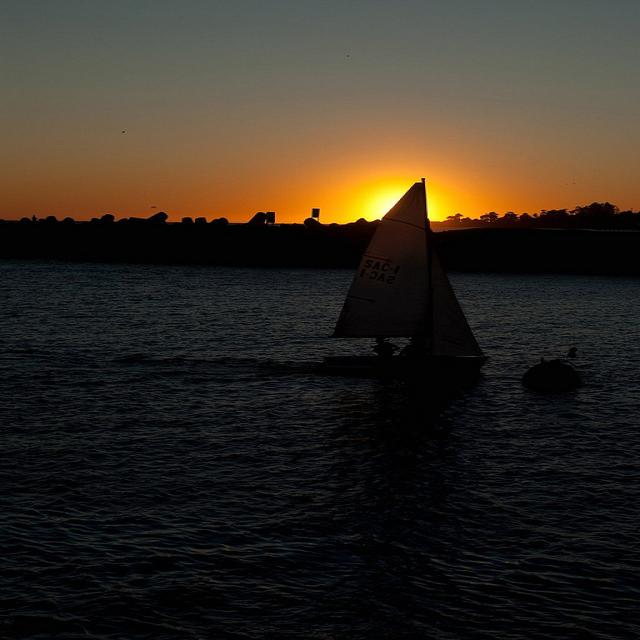Boat: (330, 165, 507, 412)
